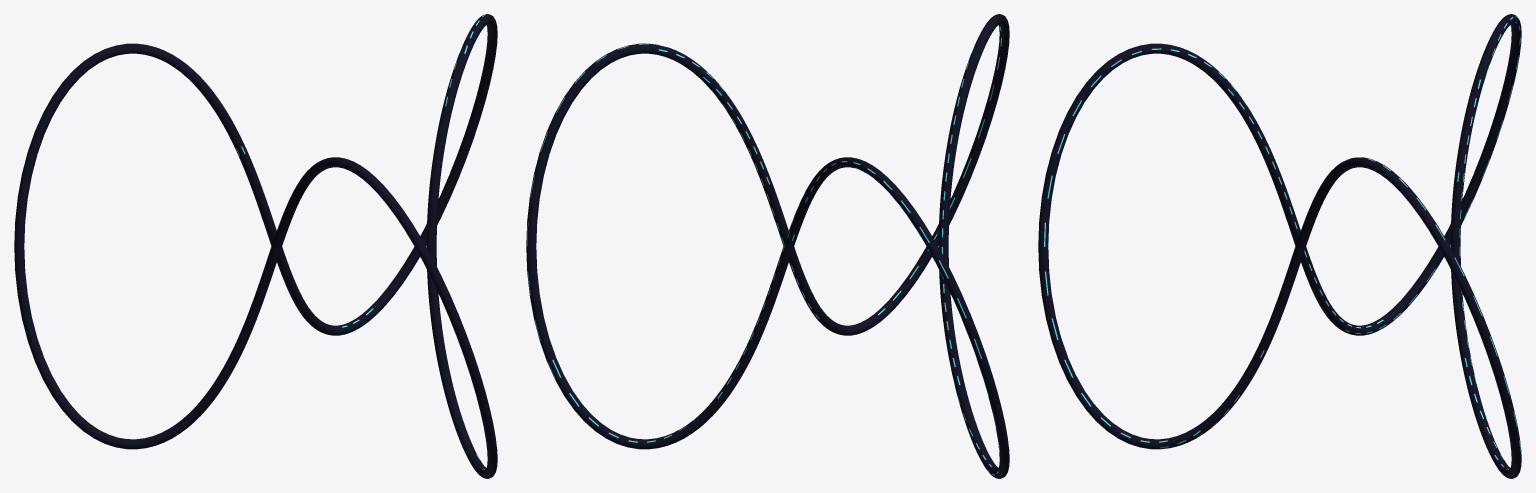
File: Tests1.FBX
3 views of the same model, side by side, from view 1: azimuth 30°, elevation 25°; view 2: azimuth 150°, elevation 25°; view 3: azimuth 270°, elevation 25° (orthographic).
Parts seen in each view (by area): view 1: Noeud tore001; view 2: Noeud tore001; view 3: Noeud tore001.
Part boxes in pixels (x1,y1,x2,y2): Noeud tore001: (14, 14, 497, 478); Noeud tore001: (526, 14, 1009, 478); Noeud tore001: (1038, 14, 1521, 478).
Size of the model in its own units: 29970 by 20973 by 26868.
